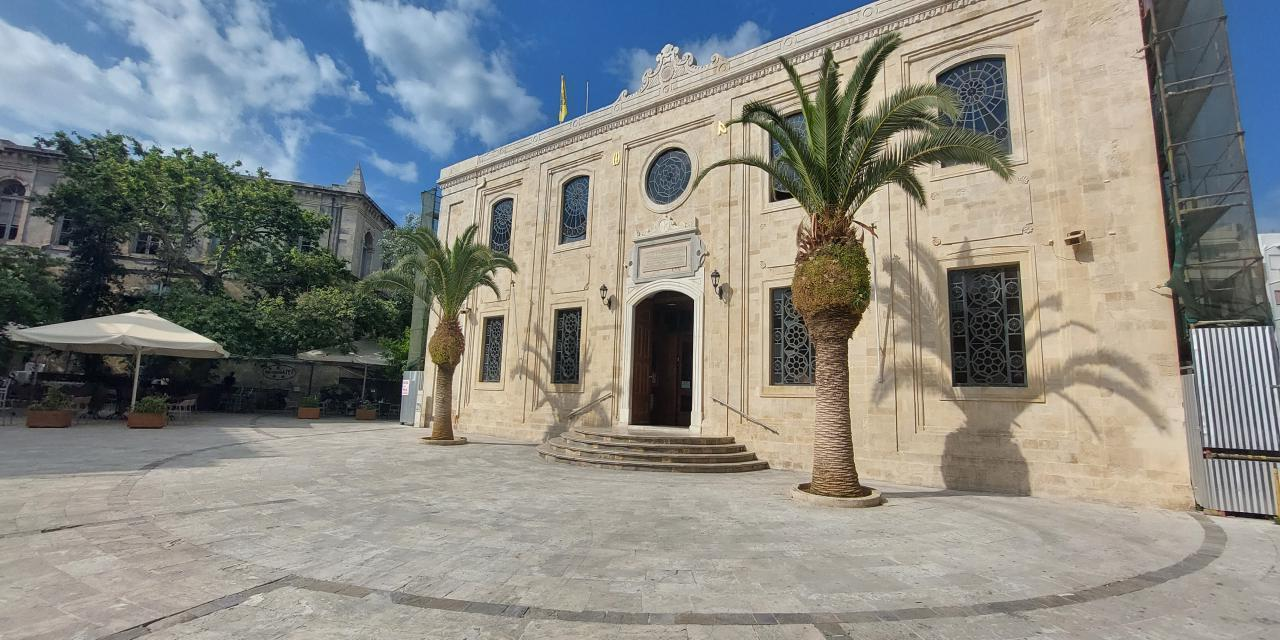Agios Titos: (435, 2, 1184, 462)
